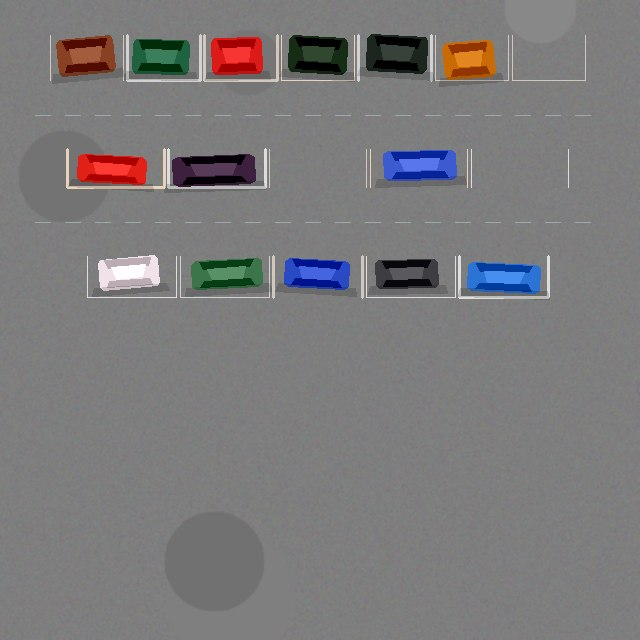space-empty: (269, 149, 366, 187), (471, 149, 568, 187), (512, 35, 585, 80)
space-occupied: (67, 149, 164, 187), (168, 149, 265, 187), (370, 149, 467, 187), (87, 256, 176, 297), (180, 256, 269, 297), (273, 256, 362, 297), (366, 256, 455, 297), (459, 256, 548, 297), (50, 35, 123, 80), (127, 35, 200, 80), (204, 35, 277, 80), (281, 35, 354, 80), (358, 35, 431, 80), (435, 35, 508, 80)
